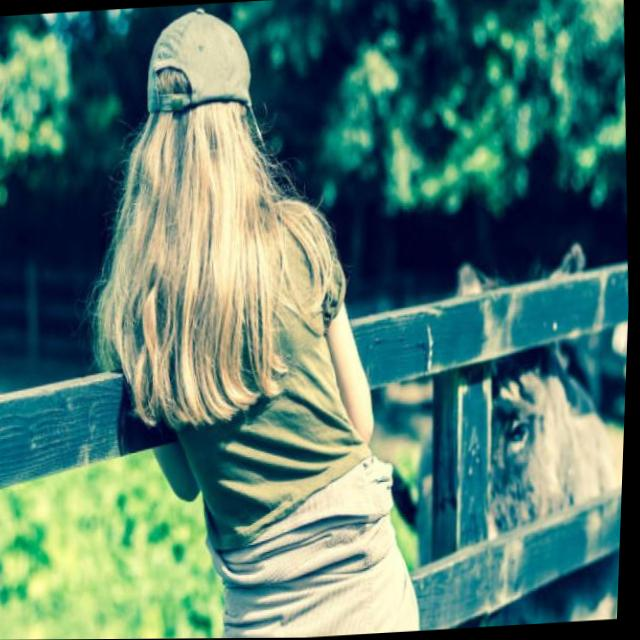no helmet: (115, 1, 282, 245)
